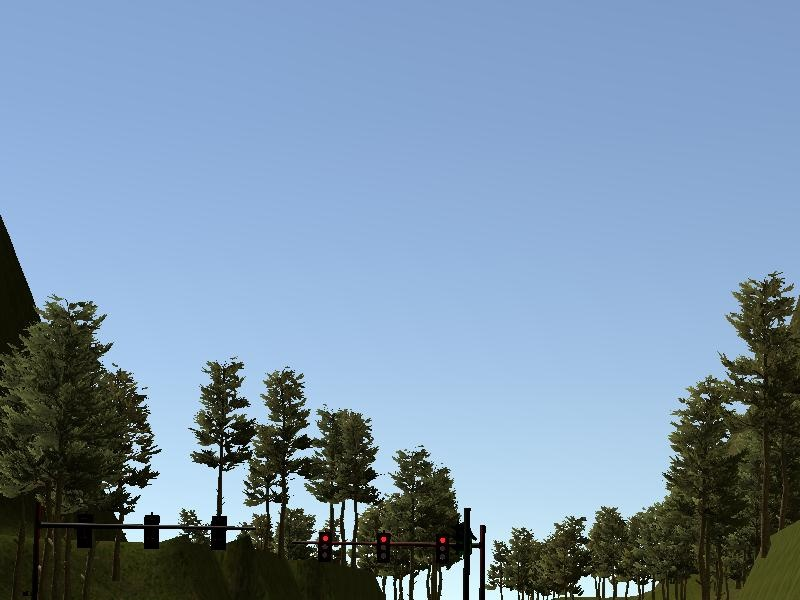Red: (376, 533, 390, 563), (435, 534, 449, 564), (318, 532, 332, 561)
